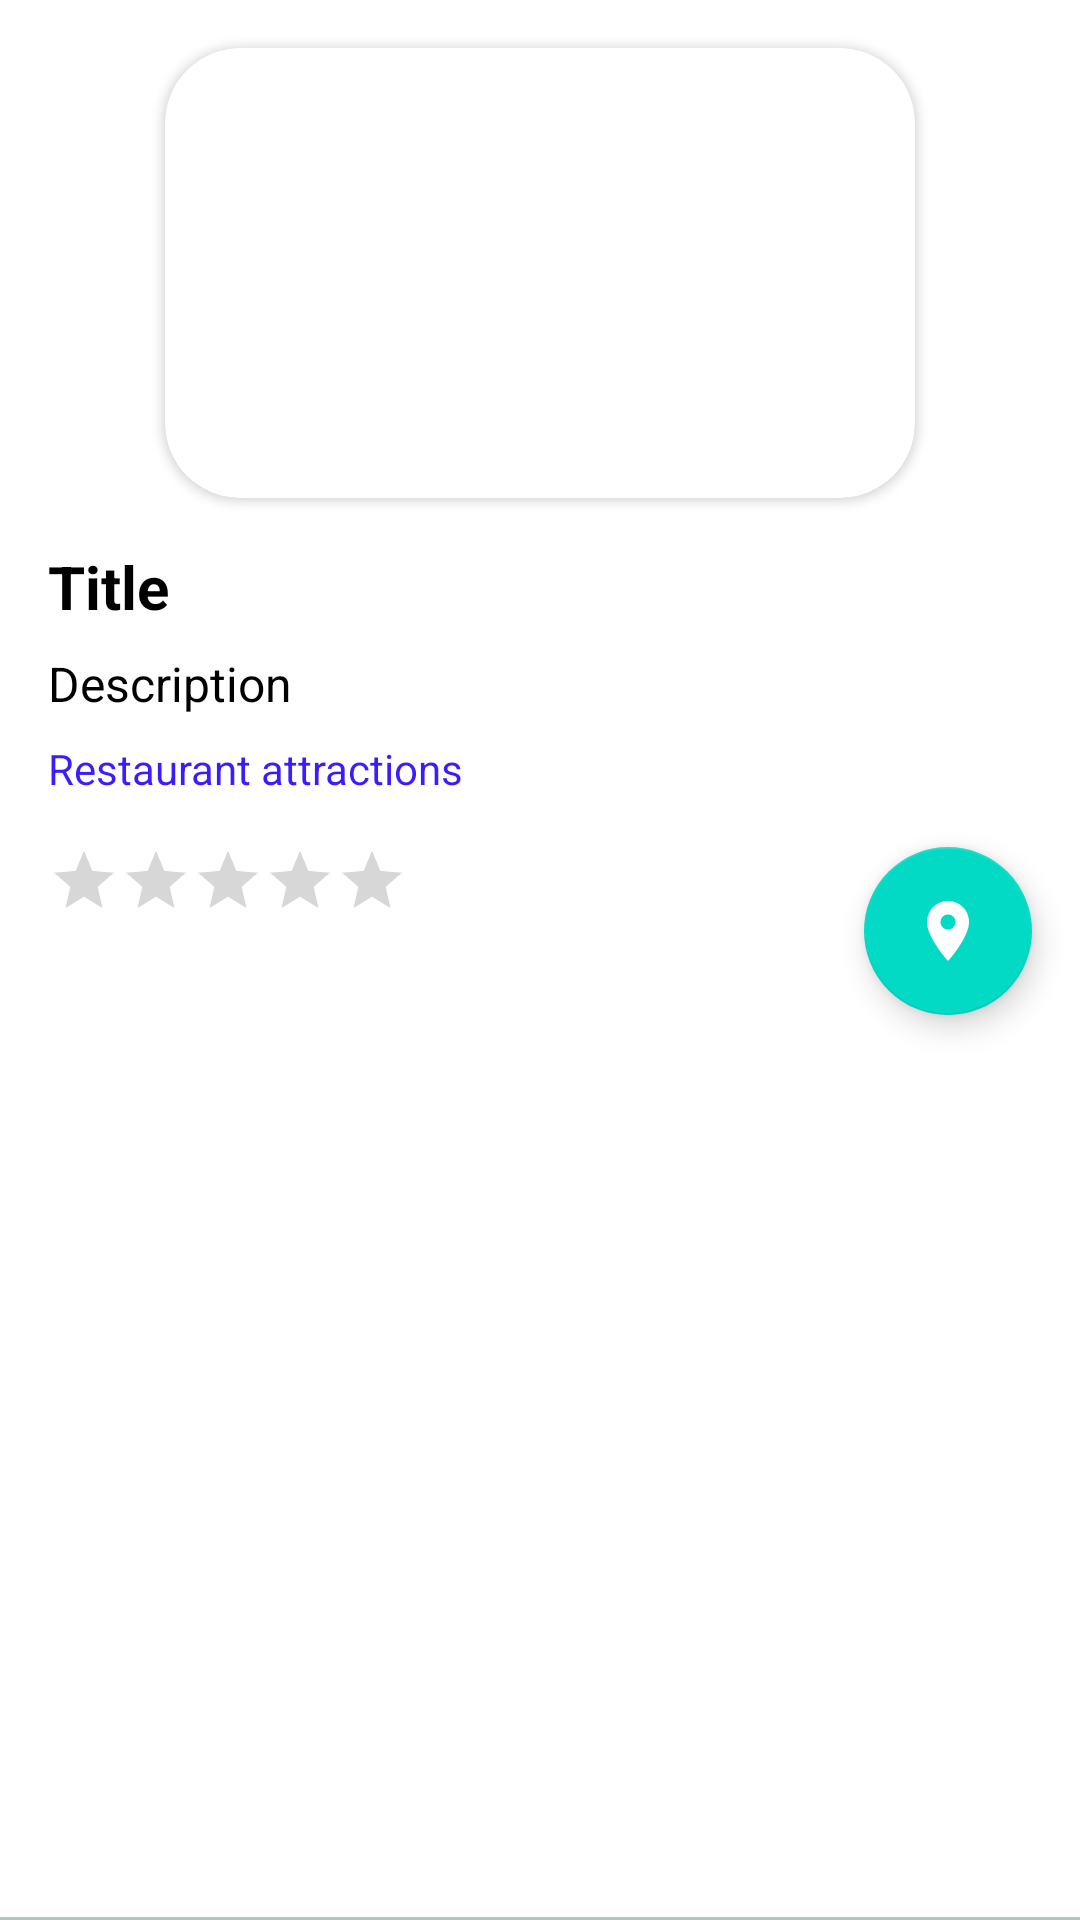

Icons on this 1080 × 1920 Android screen, each with the point to tap as [x,y]:
map: [948,931]
